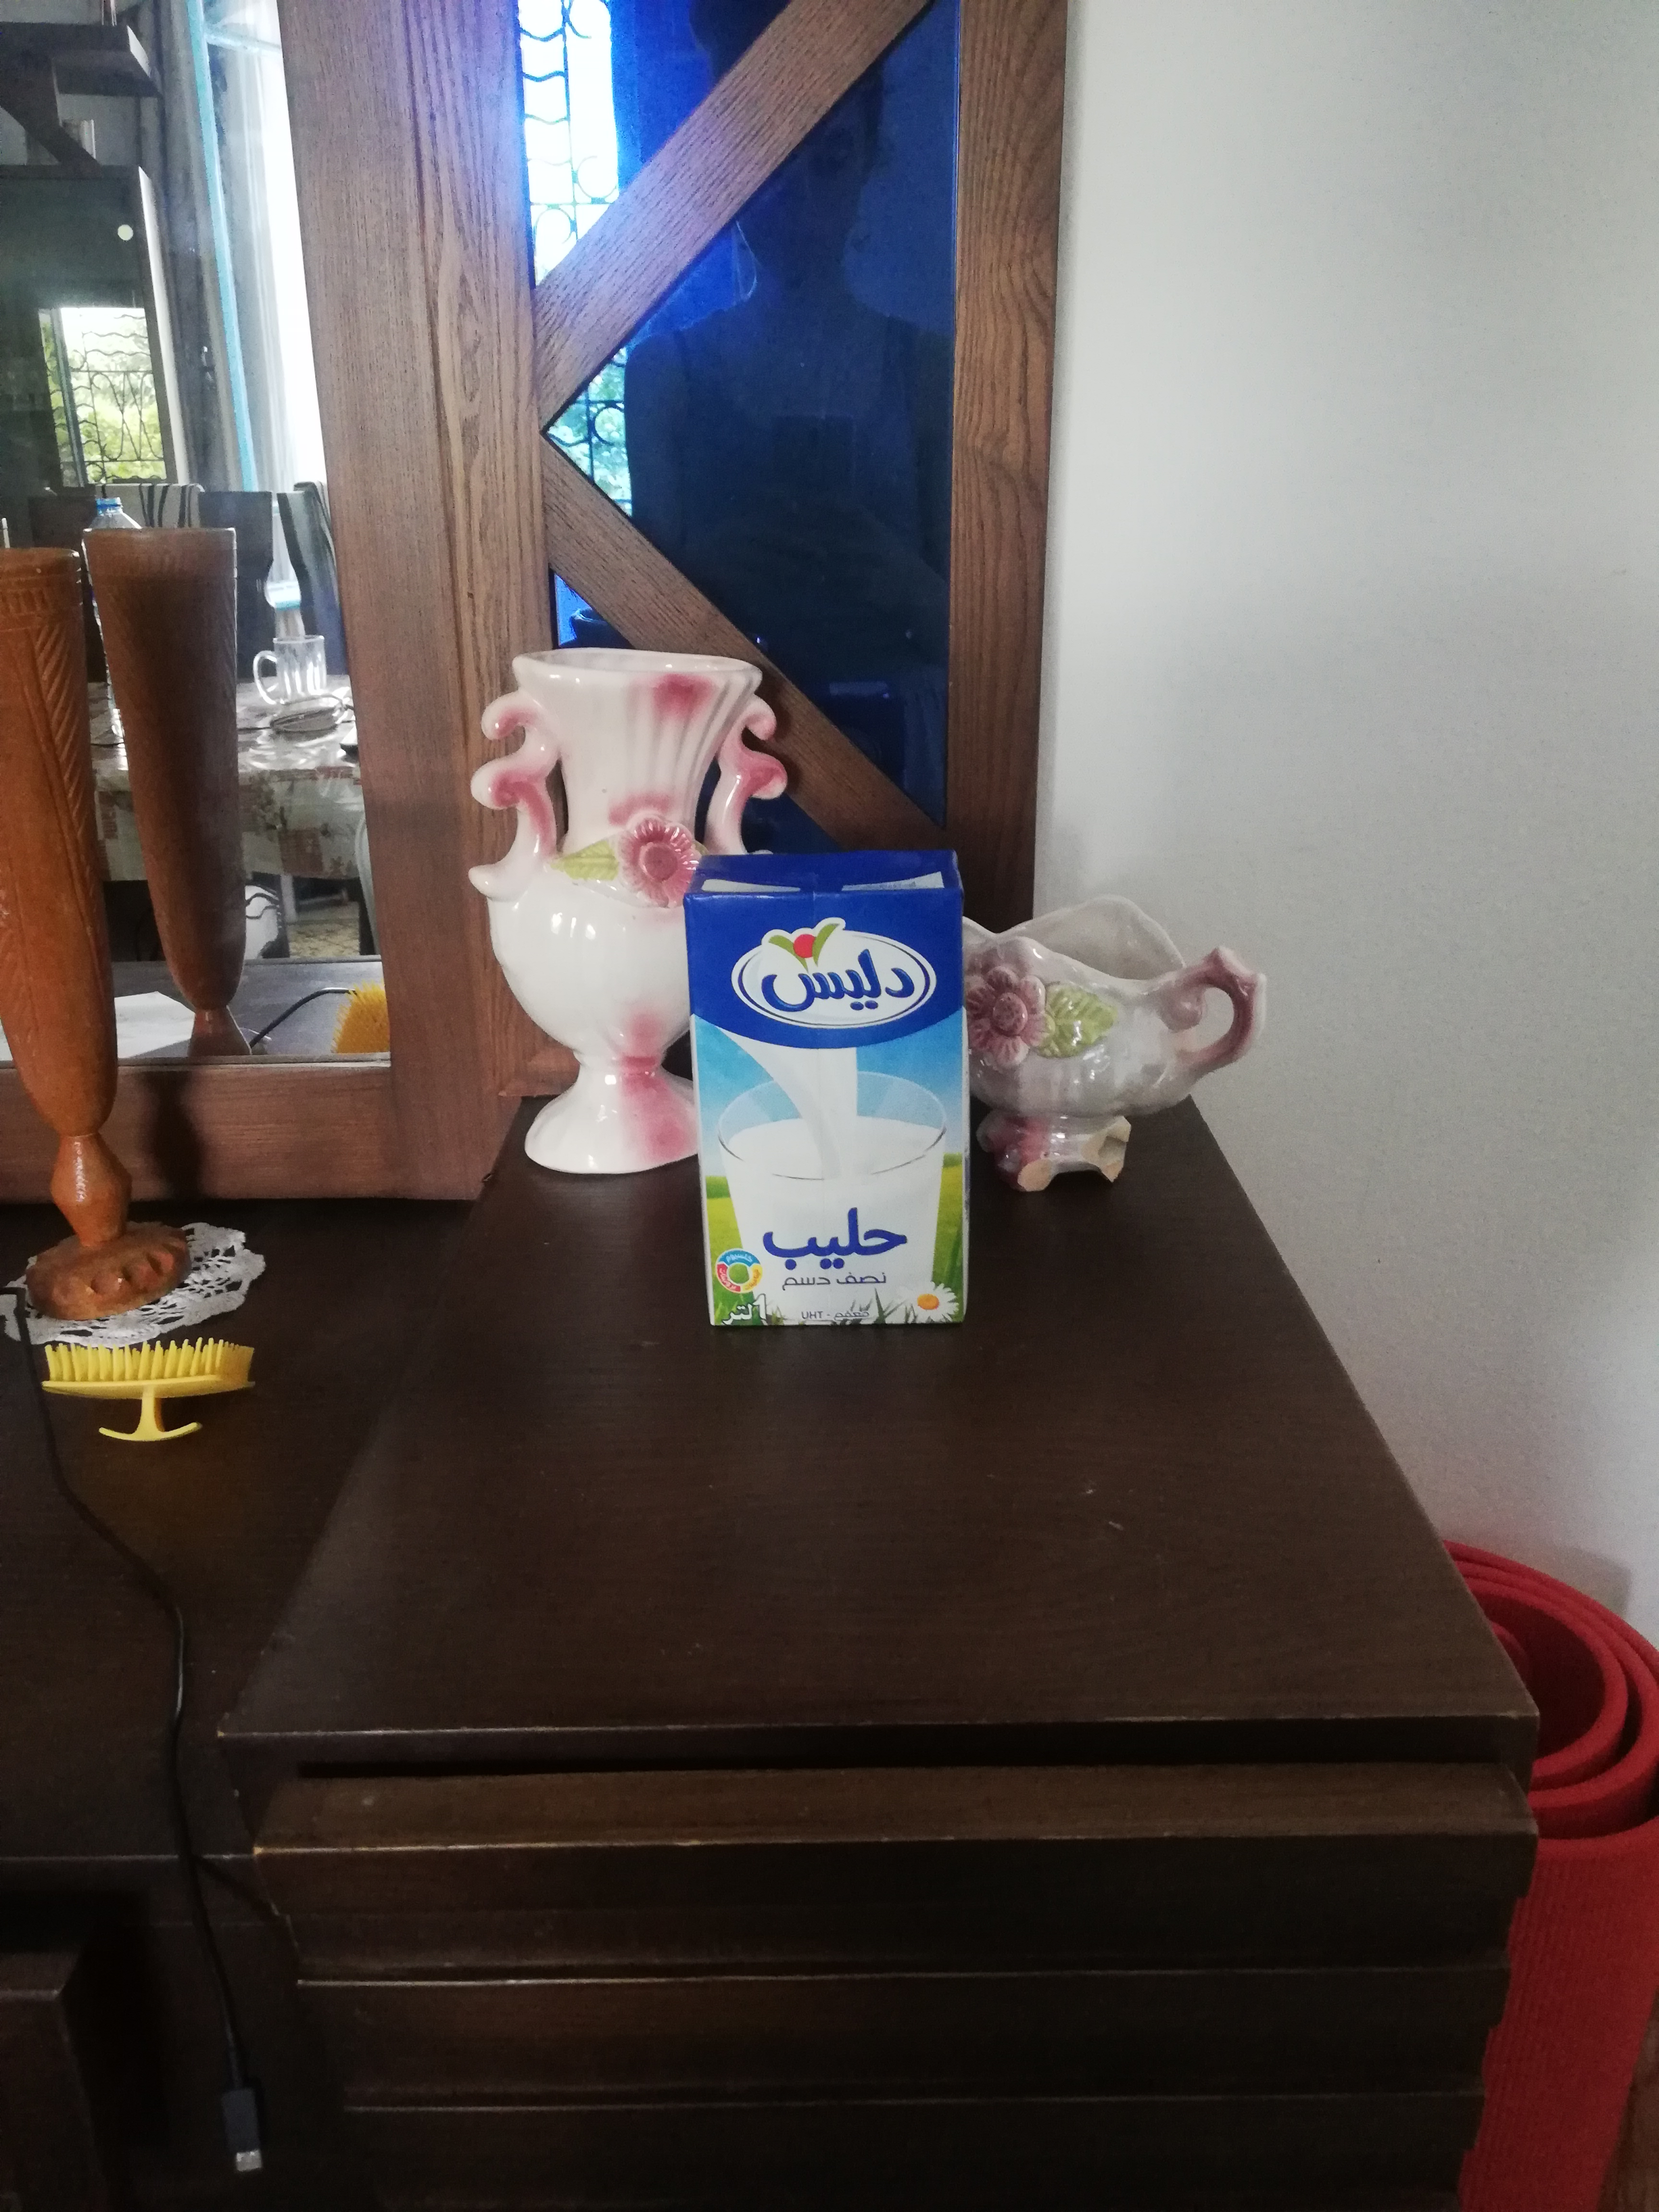Lait delice: (678, 852, 978, 1329)
